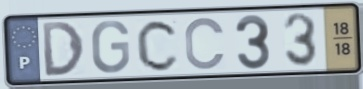3: (233, 12, 272, 72), (281, 11, 319, 69)
C: (134, 17, 181, 74), (182, 15, 228, 72)
D: (39, 20, 87, 79)
G: (90, 19, 132, 76)
